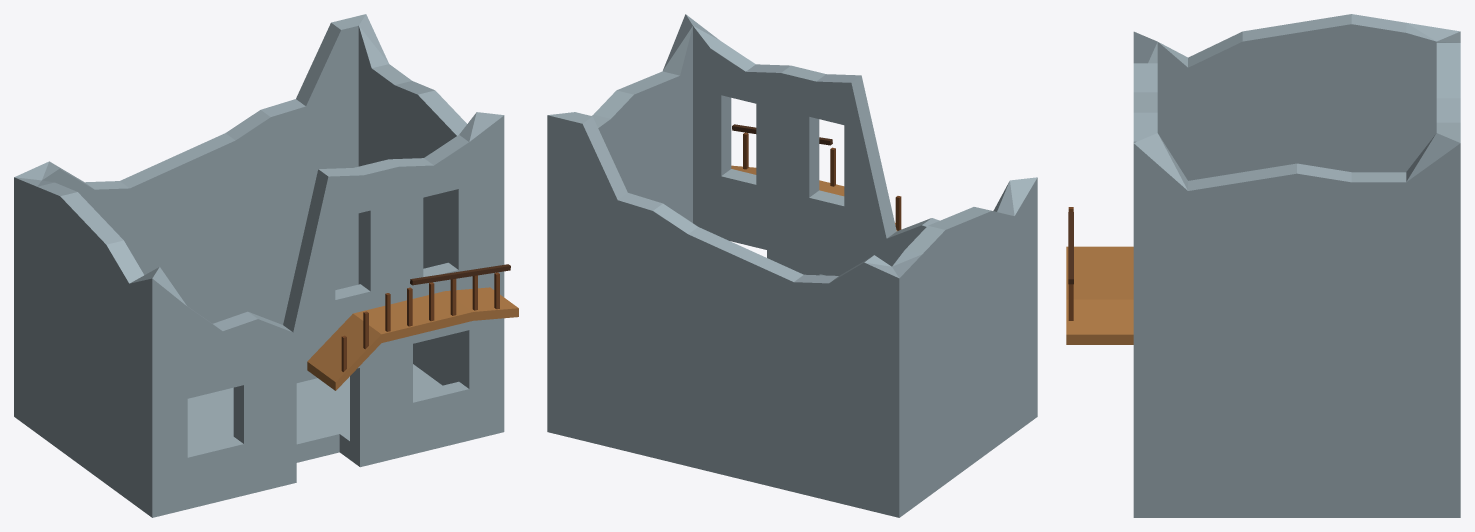
File: HotelRUINS.fbx
3 renders of one model, left to right at view 1: azimuth 30°, elevation 25°; view 2: azimuth 150°, elevation 25°; view 3: azimuth 270°, elevation 25°, orthographic. The views are drawn at different scales.
Parts seen in each view (by area): view 1: fal, erkely, korlat, Cube; view 2: fal, korlat; view 3: fal, erkely.
Boxes of the visible parts, x1,y1,x2,y2 form: fal: (14,14,504,517); erkely: (307,287,518,390); korlat: (341,272,499,371); Cube: (410,264,510,285); fal: (547,14,1037,517); korlat: (743,132,901,230); fal: (1133,14,1460,517); erkely: (1066,246,1133,344).
Bounding box in the file's own units: 5 × 4.3 × 4.1.
Materials: 1 (1 with a texture image).
